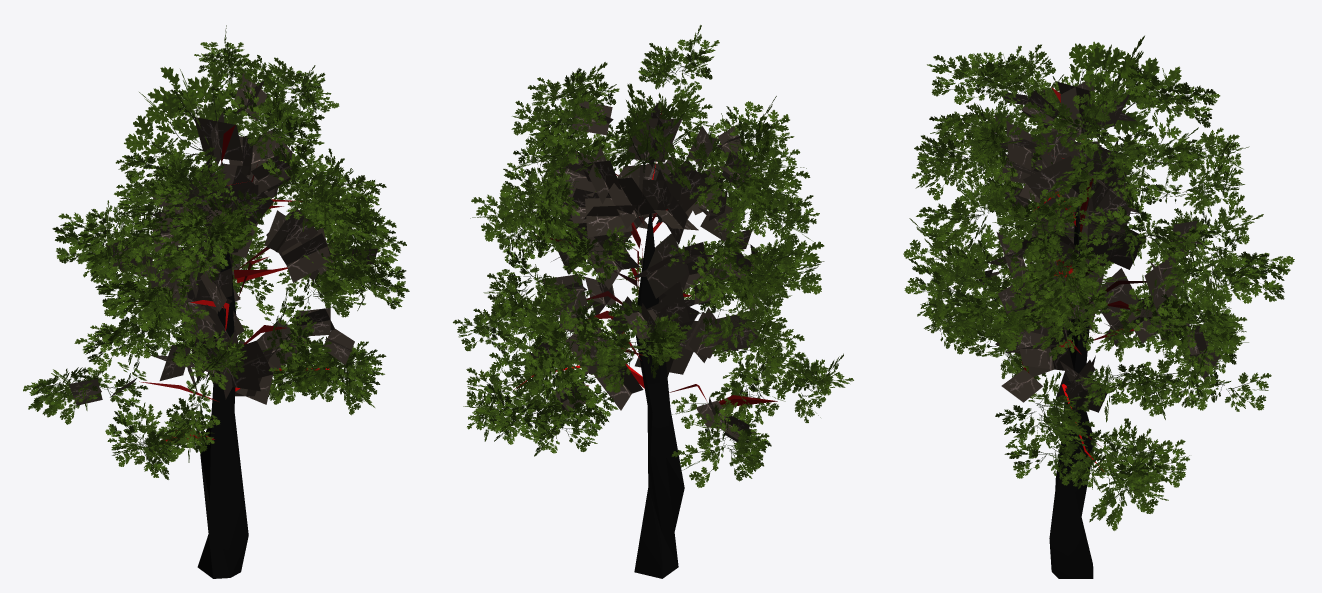
Rendered from maple2 lod1.FBX.
3 views of the same model, side by side, from view 1: azimuth 30°, elevation 25°; view 2: azimuth 150°, elevation 25°; view 3: azimuth 270°, elevation 25° (orthographic). The views are drawn at different scales.
Parts seen in each view (by area): view 1: maple2_LOD1; view 2: maple2_LOD1; view 3: maple2_LOD1.
Part boxes in pixels (box(x1,y1,x2,y2)): maple2_LOD1: box(23, 25, 409, 578); maple2_LOD1: box(453, 25, 853, 578); maple2_LOD1: box(903, 35, 1294, 578).
Bounding box in the file's own units: 89077 × 124796 × 85048.
